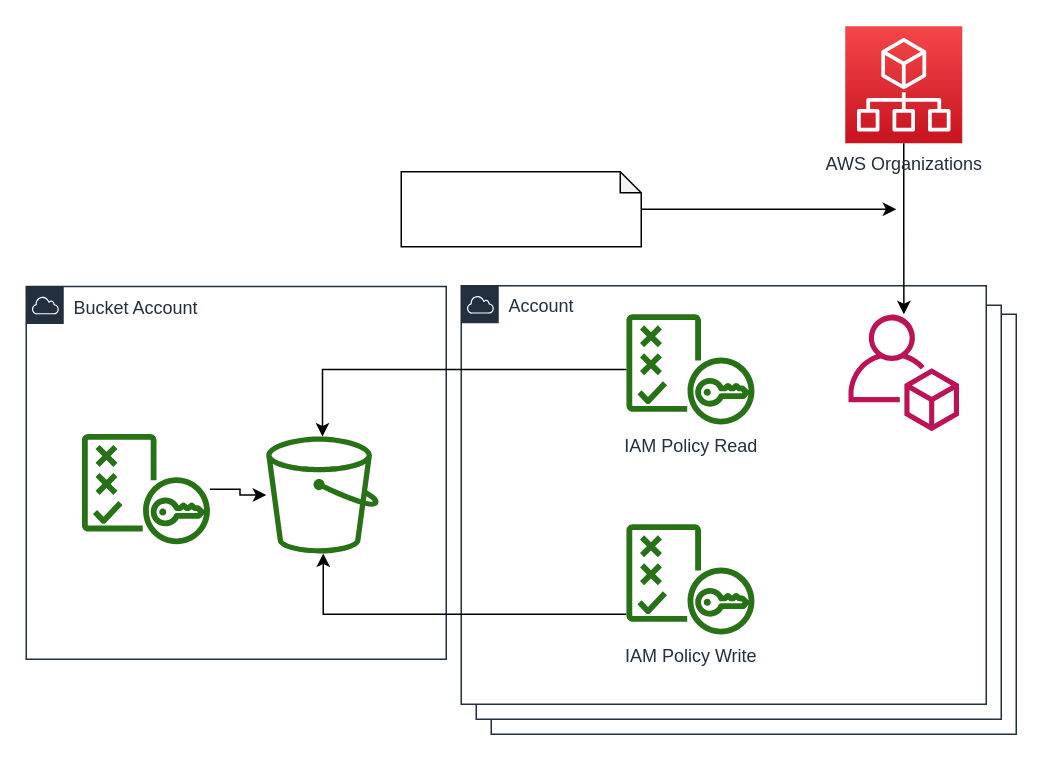
Image size: 1043x761. Some labels were removed from this diagram. The shapes that lost their labels are listed below. From the top down, each one's centre as x and y in pixels, then its label:
the point at 520,208: Selected Accounts
the point at 903,372: Any Account
the point at 145,488: Bucket Policy
